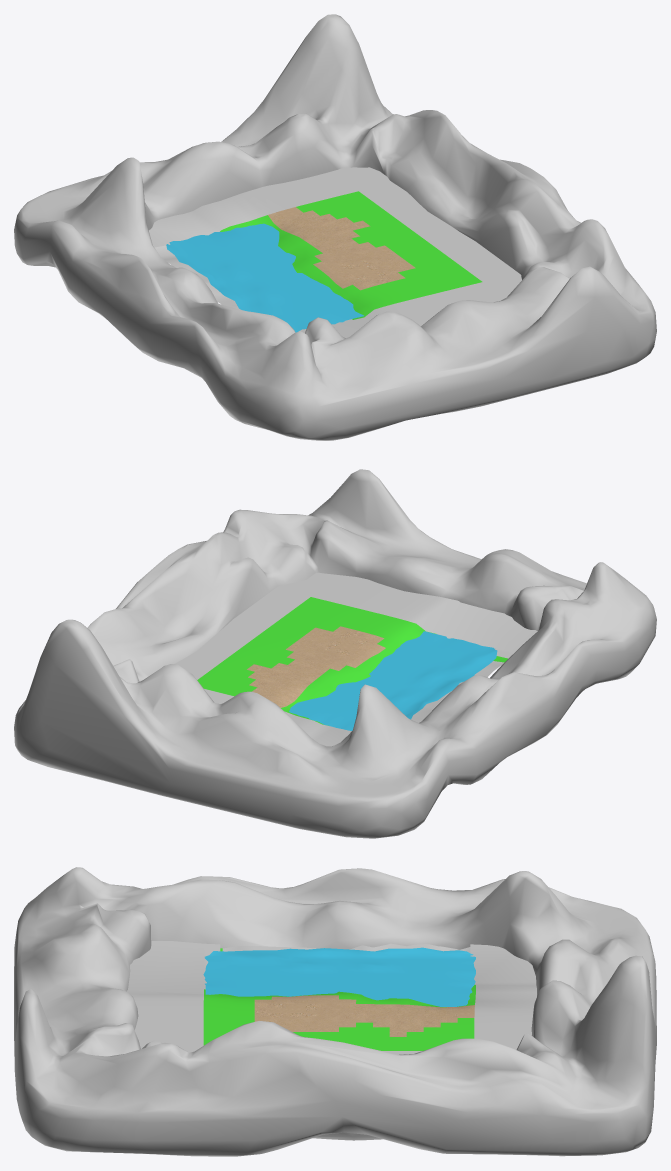
Rendered from relief.fbx.
3 views of the same model, one above another, from view 1: azimuth 30°, elevation 25°; view 2: azimuth 150°, elevation 25°; view 3: azimuth 270°, elevation 25° (orthographic). The views are drawn at different scales.
Parts seen in each view (by area): view 1: Plane.002, Plane, Plane.001; view 2: Plane.002, Plane, Plane.001; view 3: Plane.002, Plane, Plane.001.
Boxes of the visible parts, x1,y1,x2,y2 form: Plane.002: (14, 14, 656, 440); Plane: (149, 167, 521, 338); Plane.001: (166, 223, 363, 332); Plane.002: (14, 469, 656, 838); Plane: (174, 572, 537, 746); Plane.001: (289, 631, 497, 730); Plane.002: (14, 867, 656, 1156); Plane: (127, 941, 536, 1054); Plane.001: (203, 947, 475, 1006).
Size of the model in its own units: 8085 by 3088 by 9984.
